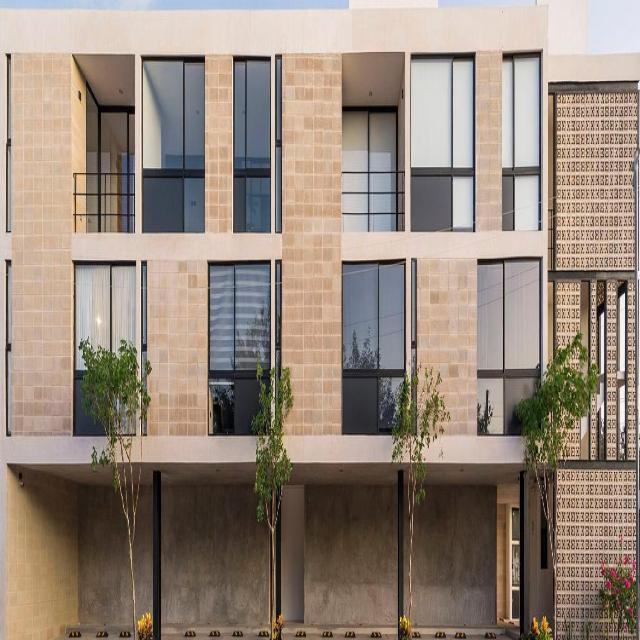Railing: (72, 167, 138, 230), (342, 166, 405, 230)
door: (529, 474, 555, 632)
plant: (511, 323, 598, 550), (80, 335, 151, 555), (390, 359, 450, 537), (252, 357, 296, 541)
windows: (343, 254, 407, 426), (143, 51, 205, 227), (479, 255, 542, 427), (210, 257, 272, 430), (76, 256, 138, 428), (414, 55, 474, 222), (87, 78, 136, 228), (233, 55, 273, 226), (504, 50, 542, 225), (343, 108, 397, 225), (143, 256, 149, 430), (277, 53, 282, 229)
